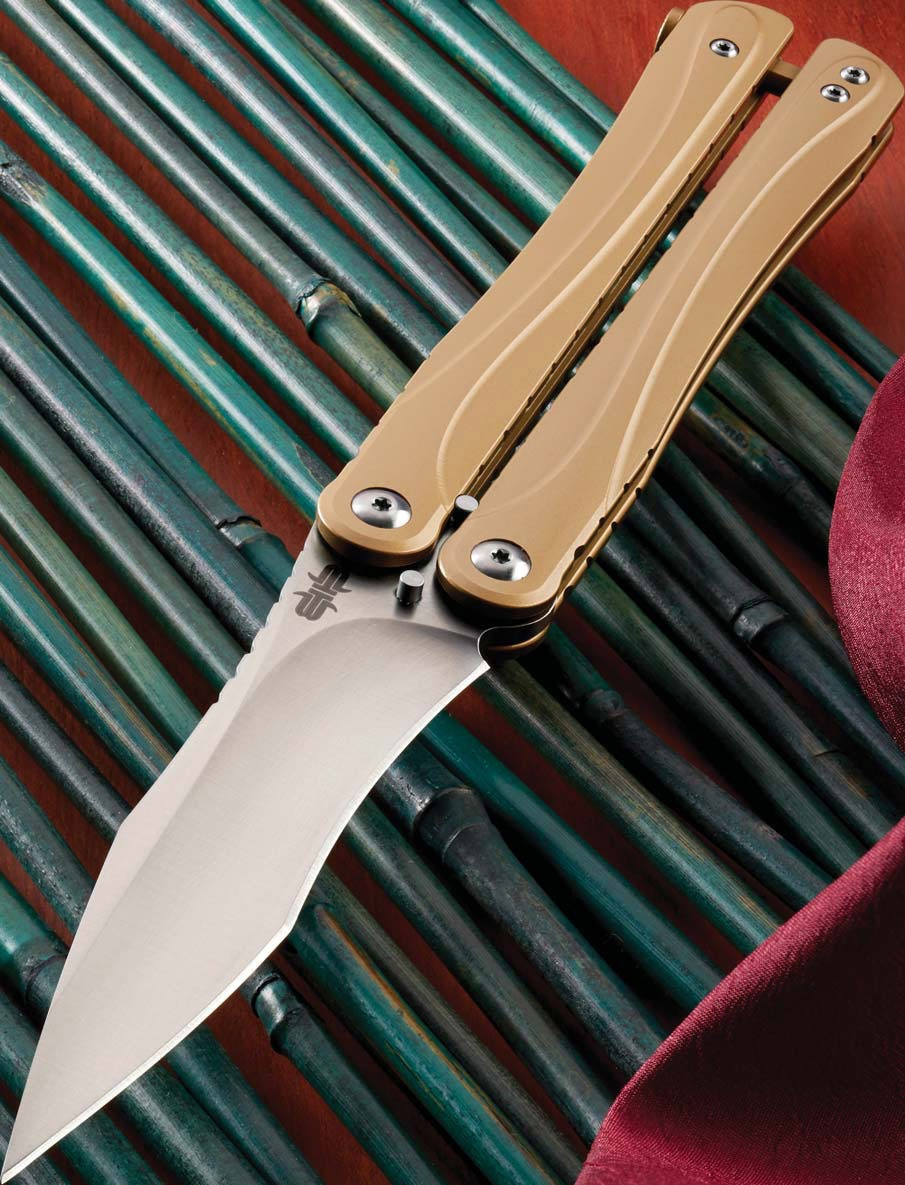knife: (2, 0, 898, 1179)
